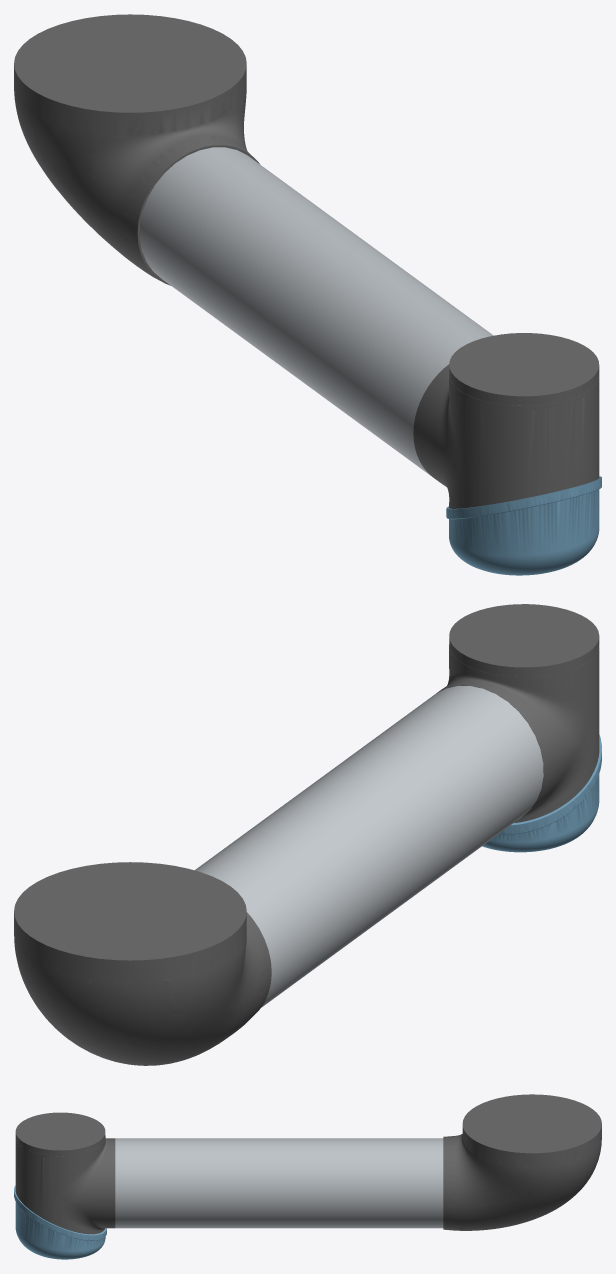
The model's file is forearm.glb.
3 views of the same model, one above another, from view 1: azimuth 30°, elevation 25°; view 2: azimuth 150°, elevation 25°; view 3: azimuth 270°, elevation 25° (orthographic). The views are drawn at different scales.
Visible parts, largest first — view 1: /Actor1/ActorShape1_0-Mesh_021-mesh/0, /Actor3/ActorShape3_0-Mesh_012-mesh/0, /Actor2/ActorShape2_0-Mesh_012-mesh/0, /Actor0_001/ActorShape0_0-Mesh_029-mesh/0; view 2: /Actor1/ActorShape1_0-Mesh_021-mesh/0, /Actor3/ActorShape3_0-Mesh_012-mesh/0, /Actor2/ActorShape2_0-Mesh_012-mesh/0, /Actor0_001/ActorShape0_0-Mesh_029-mesh/0; view 3: /Actor1/ActorShape1_0-Mesh_021-mesh/0, /Actor3/ActorShape3_0-Mesh_012-mesh/0, /Actor2/ActorShape2_0-Mesh_012-mesh/0, /Actor0_001/ActorShape0_0-Mesh_029-mesh/0.
Boxes of the visible parts, x1,y1,x2,y2 form: /Actor1/ActorShape1_0-Mesh_021-mesh/0: (139, 147, 493, 476); /Actor3/ActorShape3_0-Mesh_012-mesh/0: (14, 14, 259, 285); /Actor2/ActorShape2_0-Mesh_012-mesh/0: (413, 333, 599, 508); /Actor0_001/ActorShape0_0-Mesh_029-mesh/0: (446, 476, 601, 575); /Actor1/ActorShape1_0-Mesh_021-mesh/0: (195, 686, 543, 1007); /Actor3/ActorShape3_0-Mesh_012-mesh/0: (14, 862, 271, 1065); /Actor2/ActorShape2_0-Mesh_012-mesh/0: (436, 604, 599, 822); /Actor0_001/ActorShape0_0-Mesh_029-mesh/0: (482, 734, 601, 852); /Actor1/ActorShape1_0-Mesh_021-mesh/0: (115, 1138, 443, 1228); /Actor3/ActorShape3_0-Mesh_012-mesh/0: (443, 1094, 601, 1230); /Actor2/ActorShape2_0-Mesh_012-mesh/0: (15, 1112, 115, 1234); /Actor0_001/ActorShape0_0-Mesh_029-mesh/0: (14, 1185, 106, 1259).
Bounding box in the file's own units: 0.116 × 0.1117 × 0.4892.
